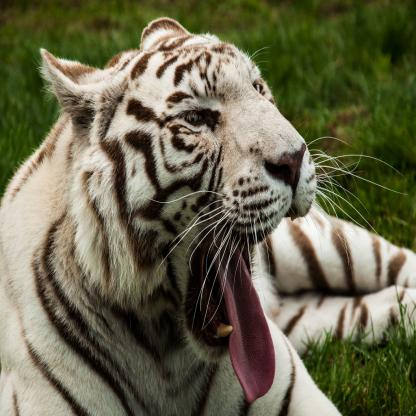Tiger: (0, 17, 416, 416)
